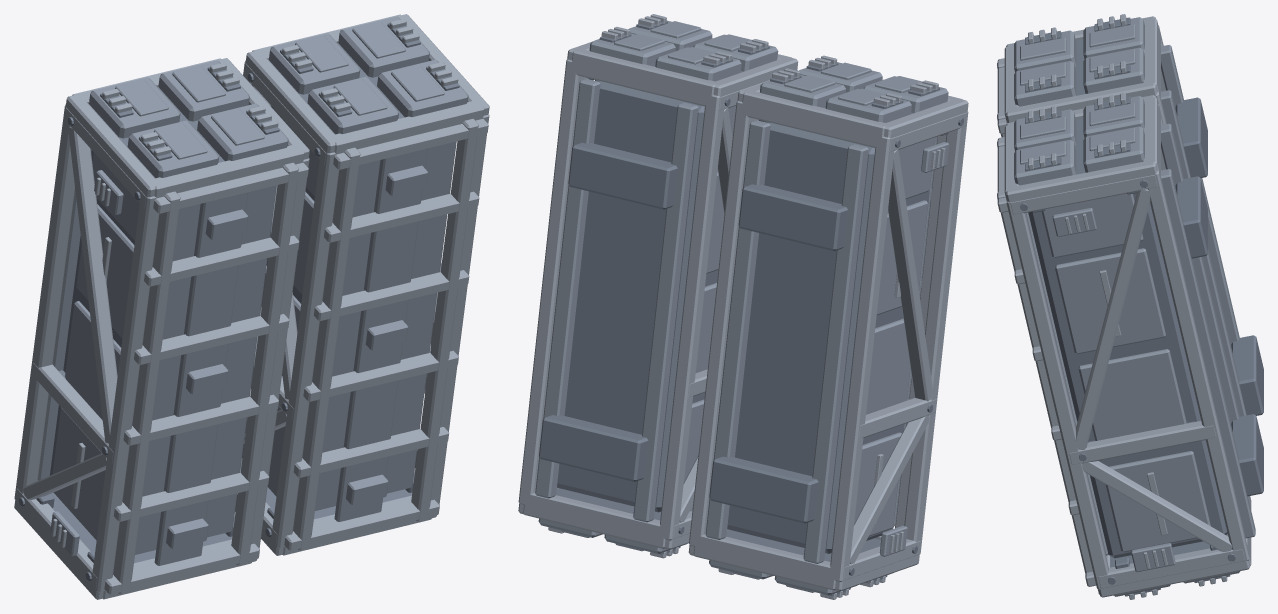
File: vertical-pods-b-pod-module-v1.glb
3 renders of one model, left to right at view 1: azimuth 30°, elevation 25°; view 2: azimuth 150°, elevation 25°; view 3: azimuth 270°, elevation 25°, orthographic. The views are drawn at different scales.
Parts seen in each view (by area): view 1: CassetteLeft_B, CassetteRight_B; view 2: CassetteLeft_B, CassetteRight_B; view 3: CassetteRight_B, CassetteLeft_B.
Boxes of the visible parts, x1,y1,x2,y2 form: CassetteLeft_B: (14, 58, 309, 599); CassetteRight_B: (240, 14, 489, 555); CassetteLeft_B: (688, 55, 968, 599); CassetteRight_B: (518, 14, 798, 558); CassetteRight_B: (997, 93, 1263, 599); CassetteLeft_B: (997, 14, 1263, 416).
Bounding box in the file's own units: 1.45 × 1.96 × 1.04.
